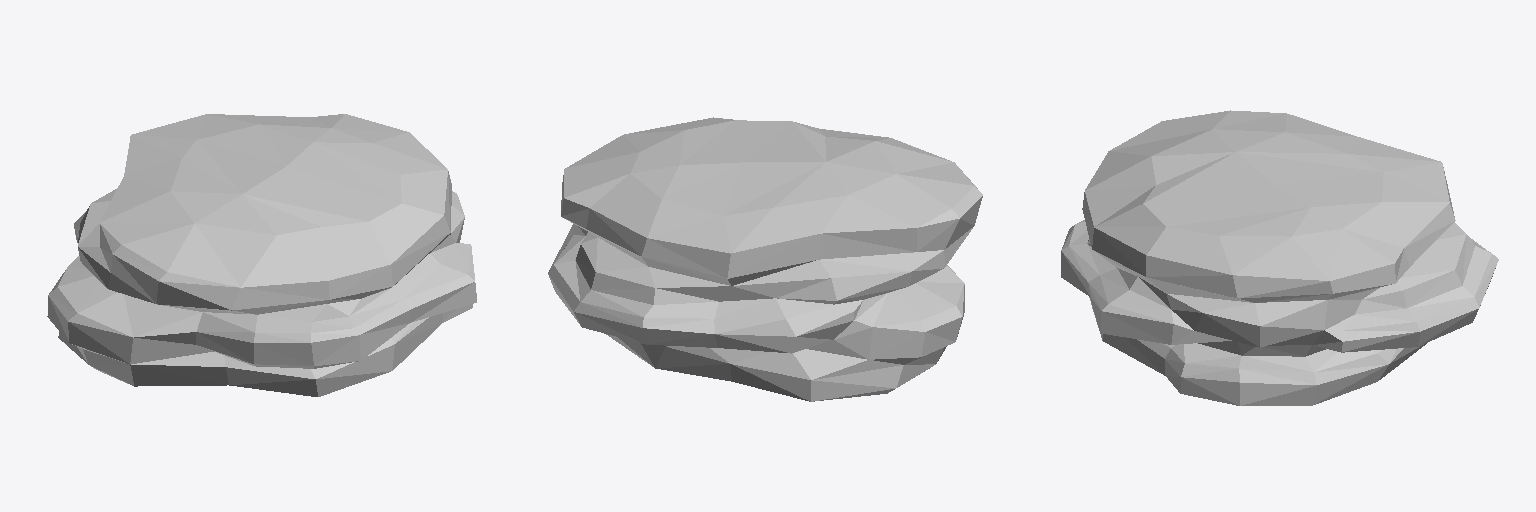
The model's file is Rock5.obj.
3 renders of one model, left to right at view 1: azimuth 30°, elevation 25°; view 2: azimuth 150°, elevation 25°; view 3: azimuth 270°, elevation 25°, orthographic.
Parts seen in each view (by area): view 1: Rock5; view 2: Rock5; view 3: Rock5.
Part boxes in pixels (x1,y1,x2,y2): Rock5: (47, 114, 476, 396); Rock5: (548, 117, 982, 401); Rock5: (1061, 110, 1498, 405).
Size of the model in its own units: 55.56 by 24.02 by 55.06.